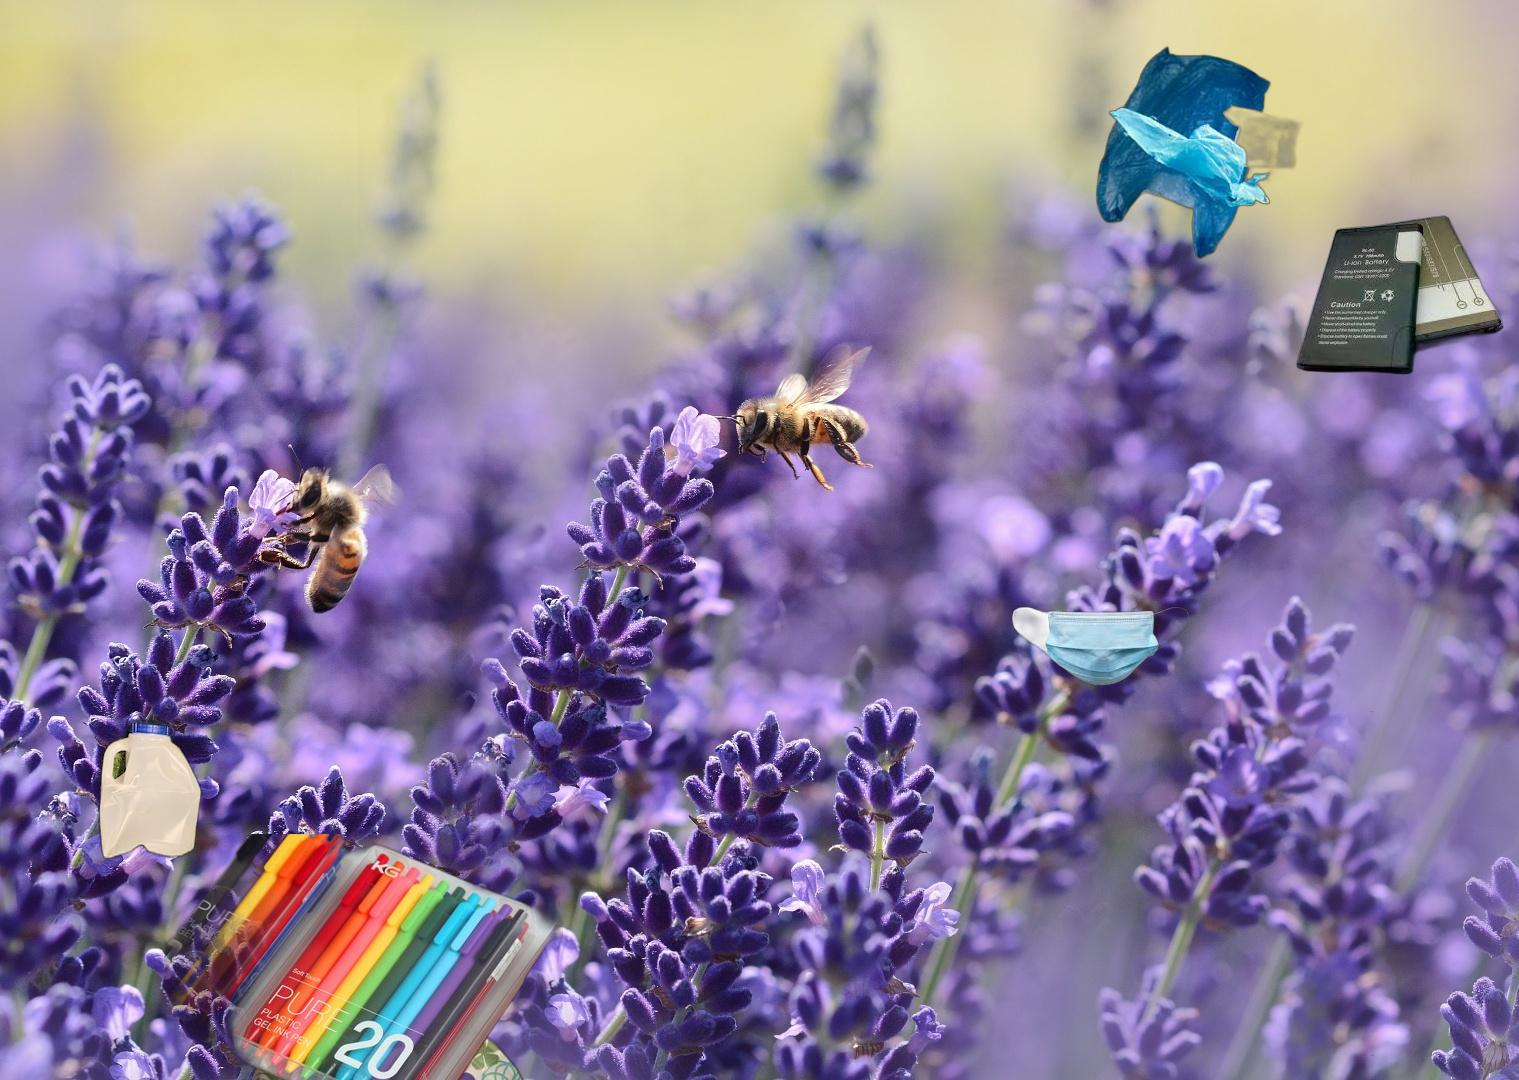battery: (1293, 212, 1506, 378)
paper: (214, 996, 537, 1080)
penholder: (164, 835, 563, 1080)
plastic-bag: (1095, 44, 1304, 262)
plastic-bottles: (95, 715, 206, 865)
trash: (1010, 604, 1192, 688)
trashbox-cardboard: (351, 711, 1374, 1055)
